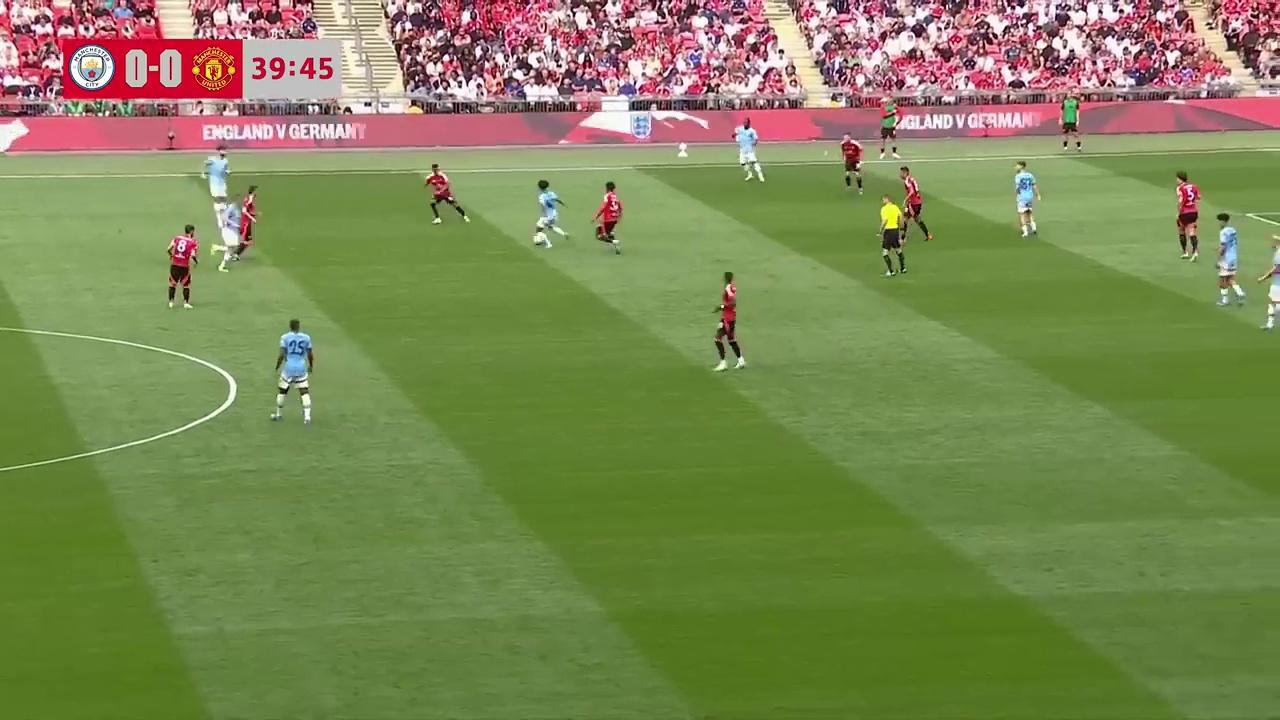ball: (533, 230, 544, 248)
player: (270, 318, 314, 424), (712, 272, 747, 371), (209, 191, 251, 270), (1215, 213, 1246, 306), (166, 223, 199, 310), (423, 162, 469, 224), (229, 185, 260, 262), (899, 168, 931, 241), (1175, 172, 1201, 260), (1256, 235, 1280, 330), (593, 182, 623, 253), (1013, 161, 1040, 238), (532, 180, 561, 250), (1255, 232, 1280, 302), (737, 123, 764, 182), (204, 148, 231, 207), (839, 133, 864, 195)
referee: (876, 194, 906, 276)
